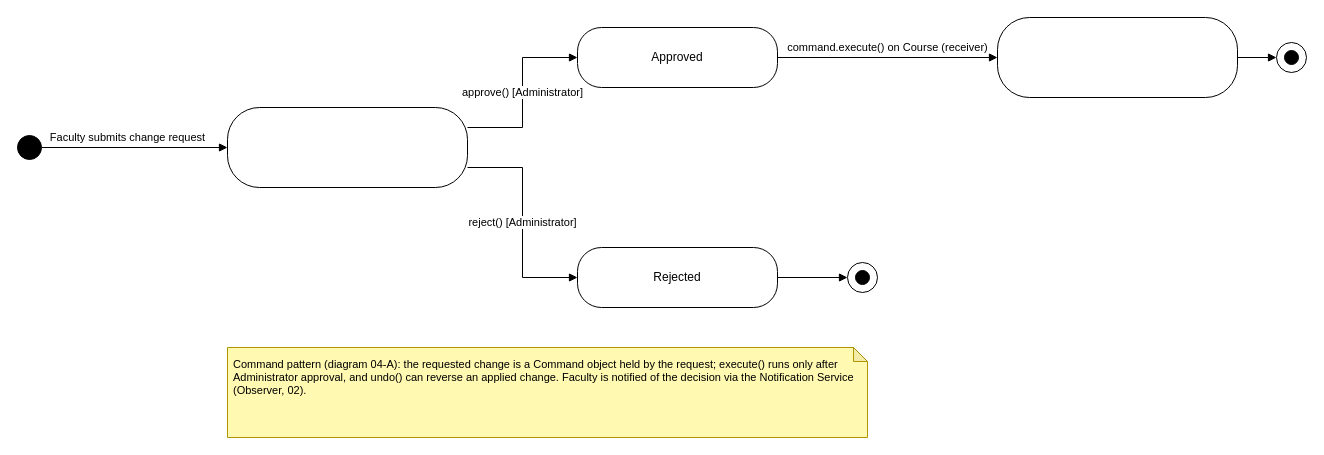
Image size: 1324x455. Some labels were removed from this diagram. Here are the shapes that lost their labels. From the top down, the centre of each, then its label:
At pixel 1117 57: "Applied entry / store command for audit".
At pixel 347 147: "Pending entry / await Administrator review".
